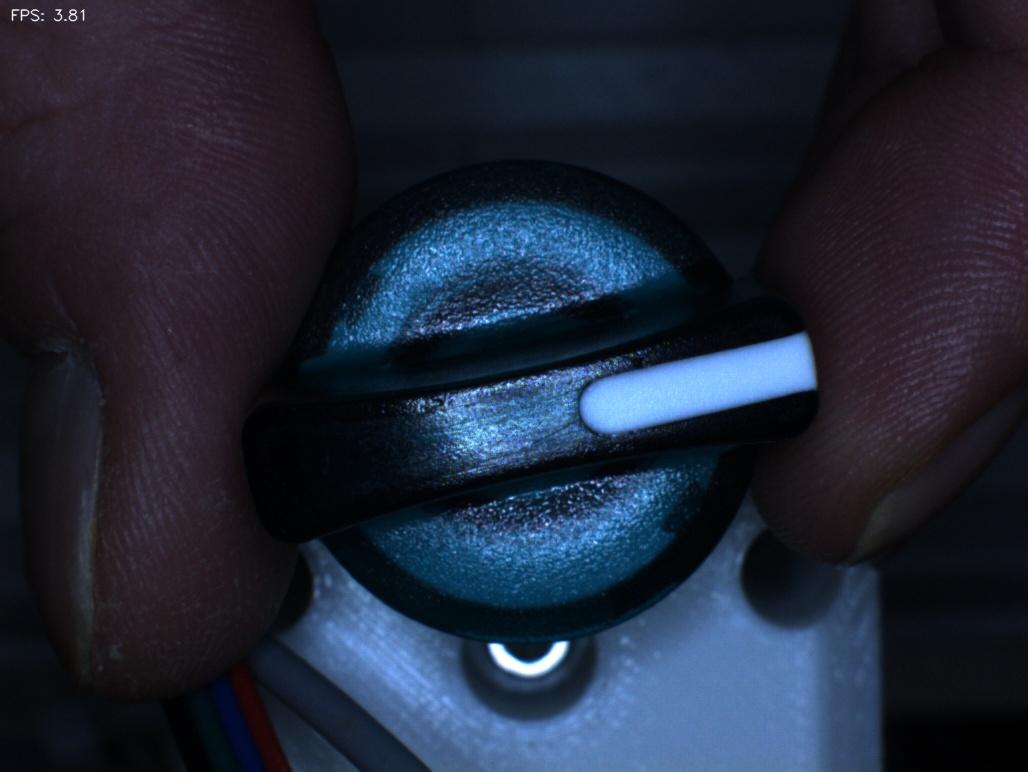Choc: (604, 325, 677, 406)
